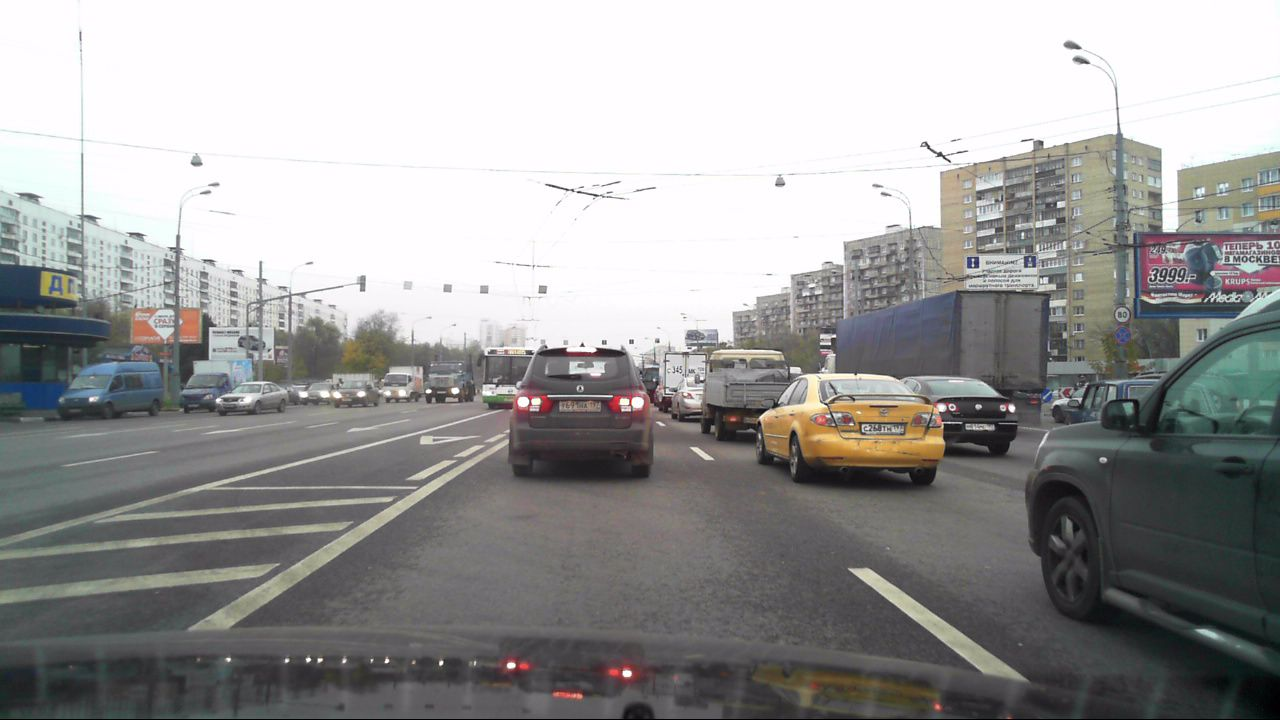No Parking: (1112, 327, 1129, 345)
